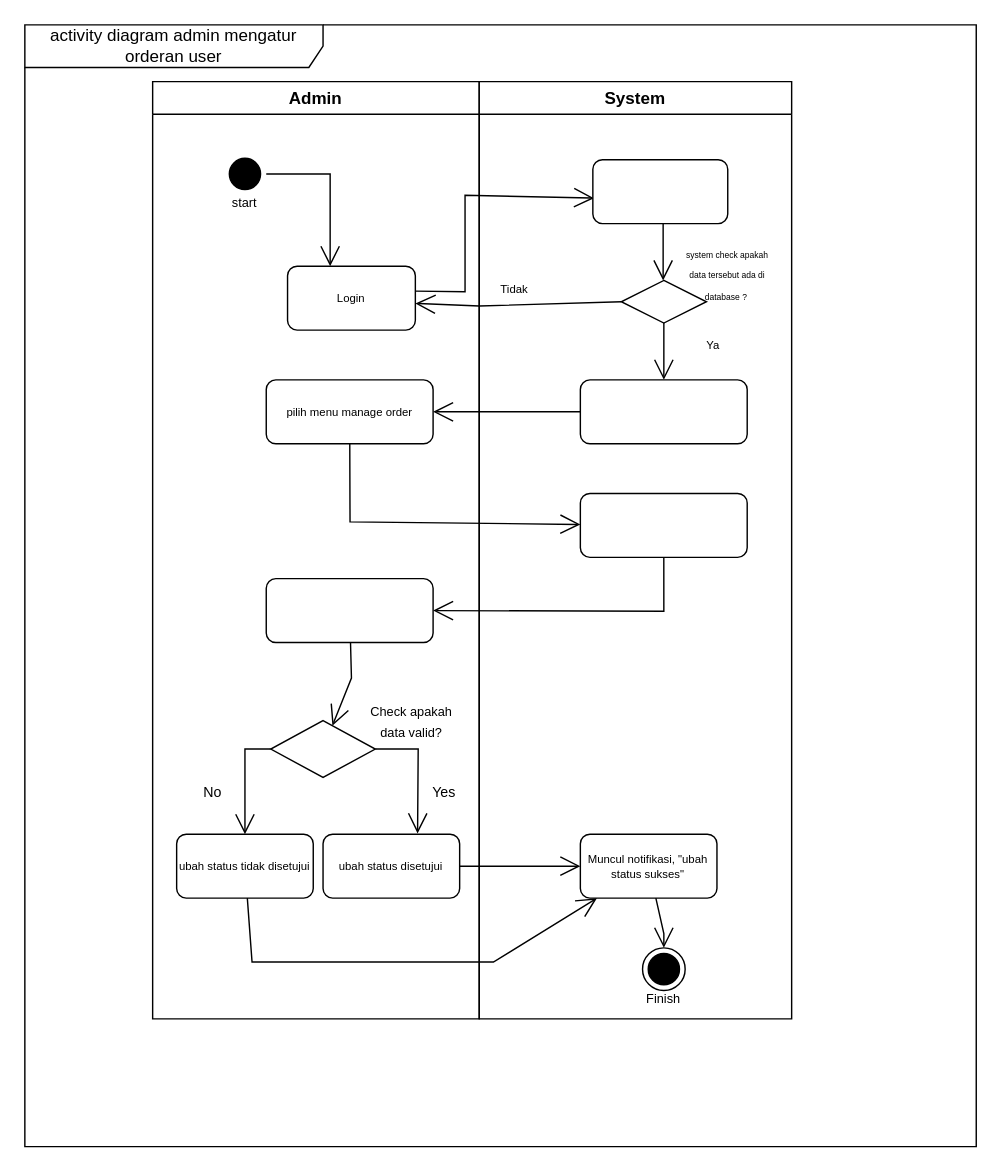
This 1001x1172 diagram has some shape labels left out. Each missing label, with the centre of its shape:
Menampilkan menu dashboard admin: the point at 663,411
Menampilkan tabel daftar pemesanan user: the point at 663,524
pilih ubah status: the point at 349,610
Verifikasi: the point at 659,191
